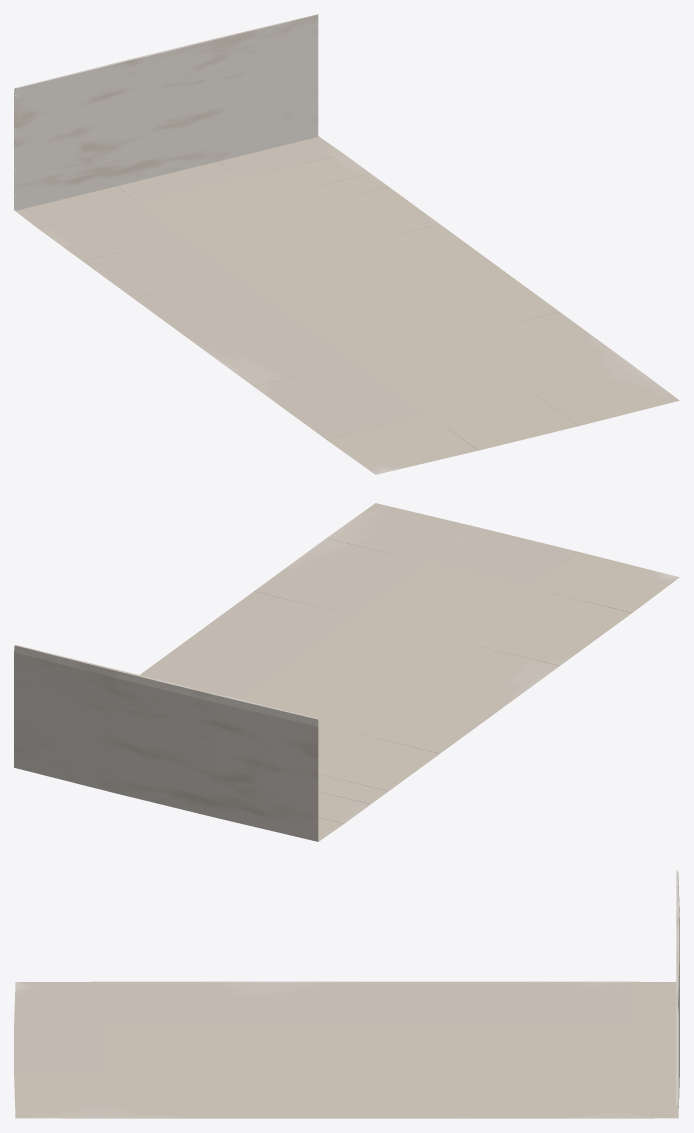
File: tes lantai.fbx
3 views of the same model, one above another, from view 1: azimuth 30°, elevation 25°; view 2: azimuth 150°, elevation 25°; view 3: azimuth 270°, elevation 25° (orthographic). The views are drawn at different scales.
Visible parts, largest first — view 1: Lantai; view 2: Lantai; view 3: Lantai.
Part boxes in pixels (x1,y1,x2,y2): Lantai: (14,14,679,474); Lantai: (14,503,679,841); Lantai: (14,870,679,1118).
Size of the model in its own units: 1527 by 585 by 3138.
